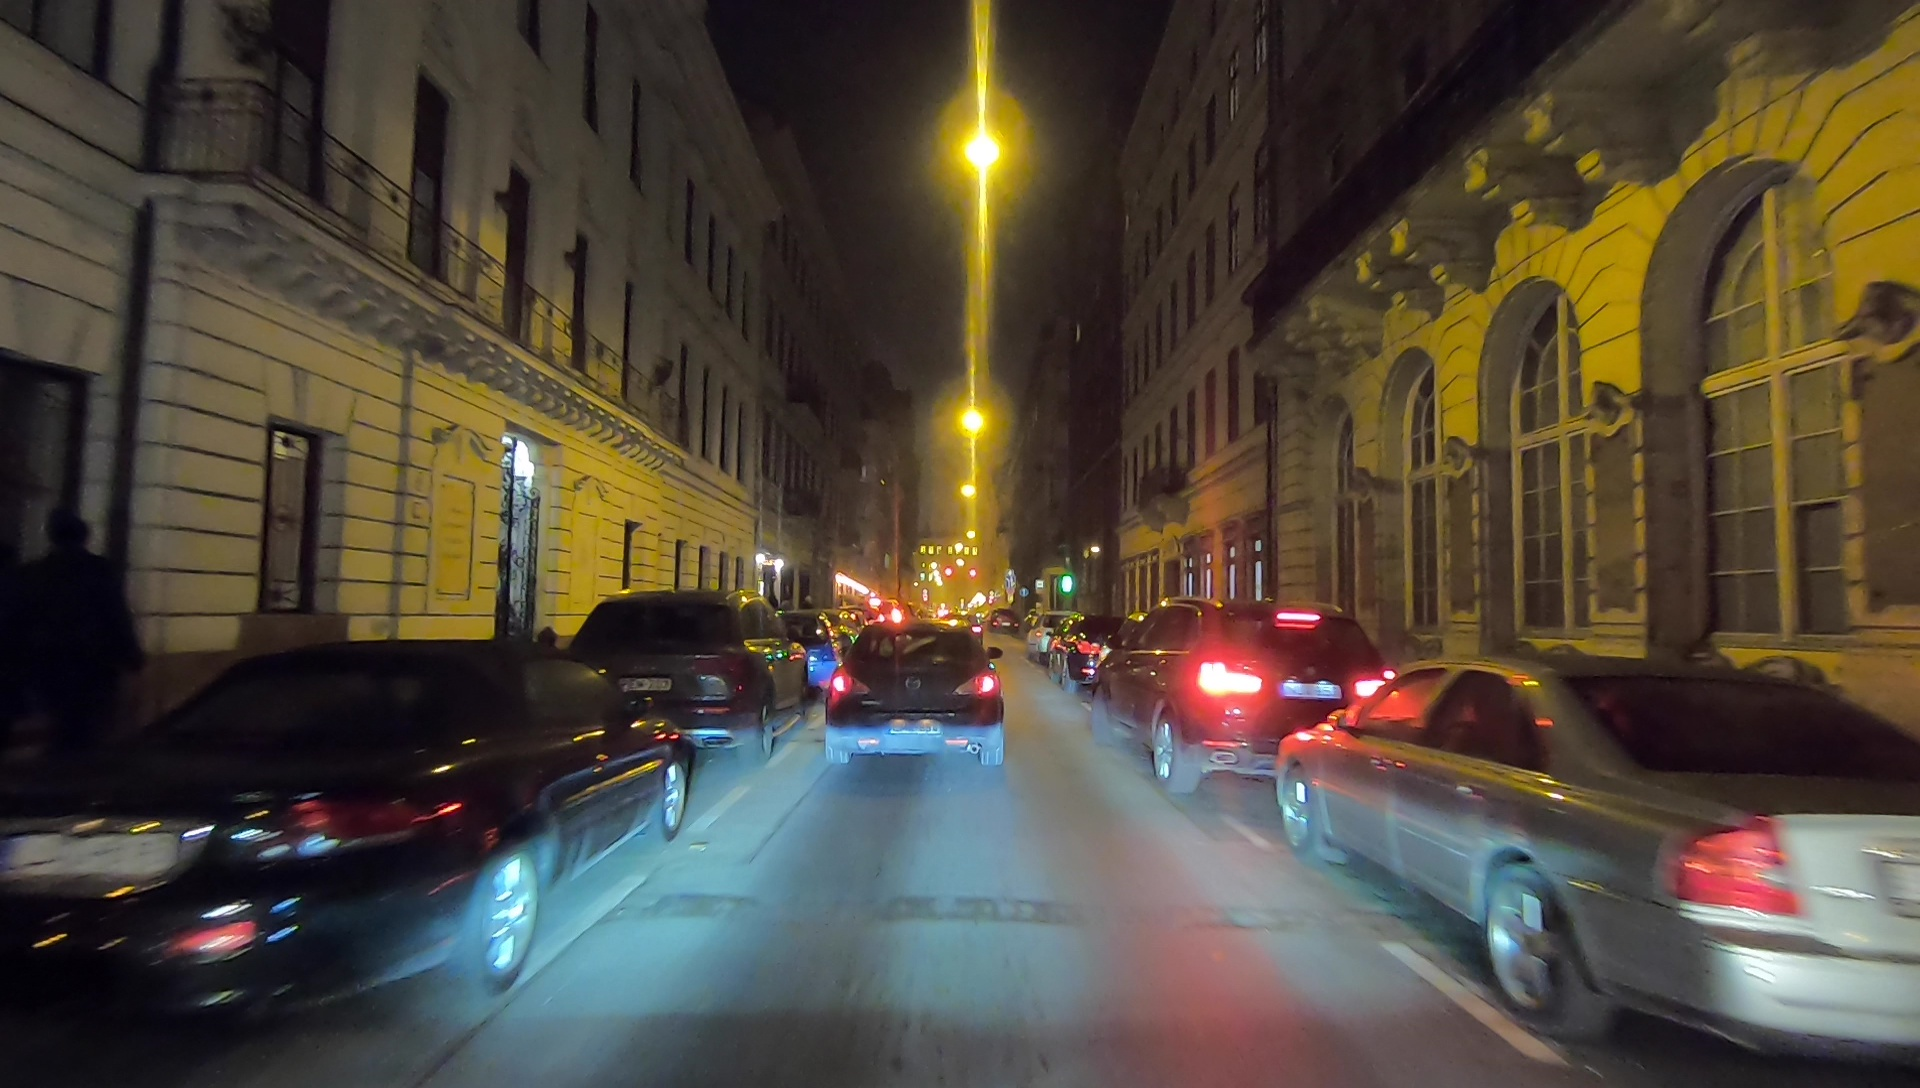person: (1, 500, 110, 794)
